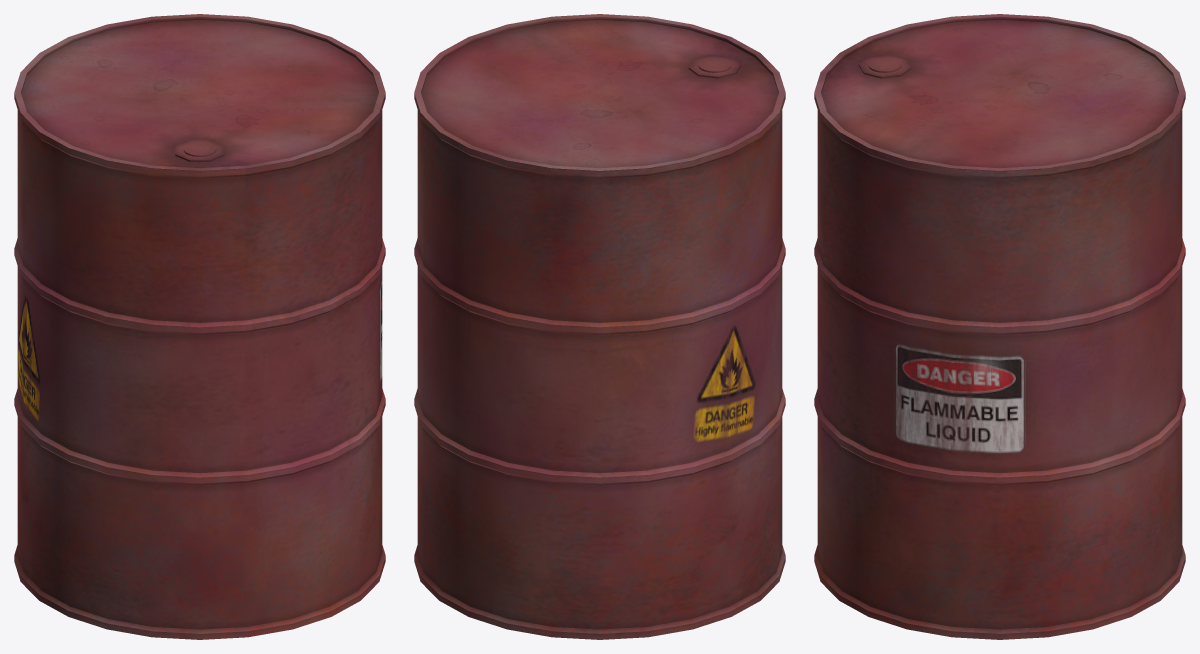
The model's file is OilBarrels_r.fbx.
3 renders of one model, left to right at view 1: azimuth 30°, elevation 25°; view 2: azimuth 150°, elevation 25°; view 3: azimuth 270°, elevation 25°, orthographic.
Visible parts, largest first — view 1: Barrel02_1; view 2: Barrel02_1; view 3: Barrel02_1.
Boxes of the visible parts, x1=… form: Barrel02_1: x1=14, y1=14, x2=385, y2=639; Barrel02_1: x1=414, y1=14, x2=785, y2=639; Barrel02_1: x1=814, y1=14, x2=1185, y2=639.
Bounding box in the file's own units: 0.56 × 0.78 × 0.56.
